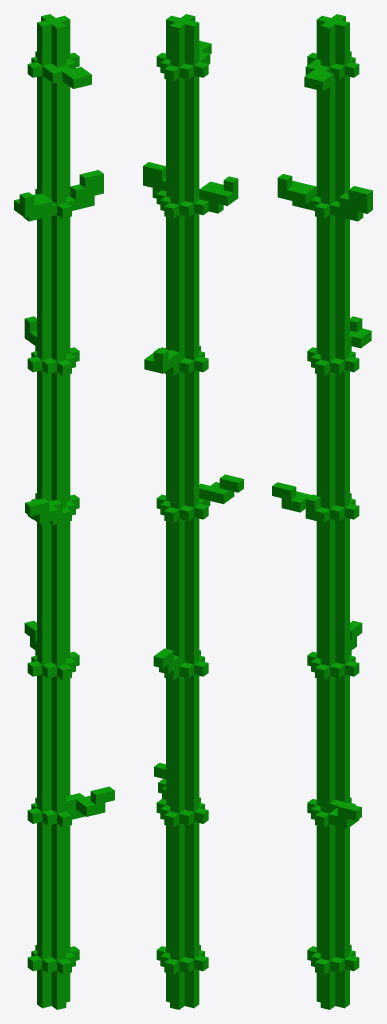
File: bamboo2.obj
The picture shows the model from 3 angles, left to right: view 1: azimuth 30°, elevation 25°; view 2: azimuth 150°, elevation 25°; view 3: azimuth 330°, elevation 25°; orthographic projection.
Size of the model in its own units: 0.9 by 10 by 0.9.
Materials: 1 (1 with a texture image).
